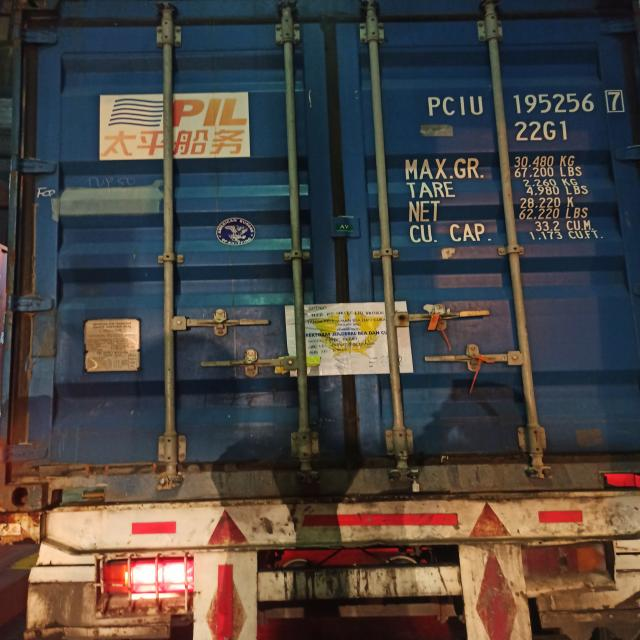seal: (471, 349, 494, 392), (428, 308, 449, 342), (408, 469, 422, 493)
